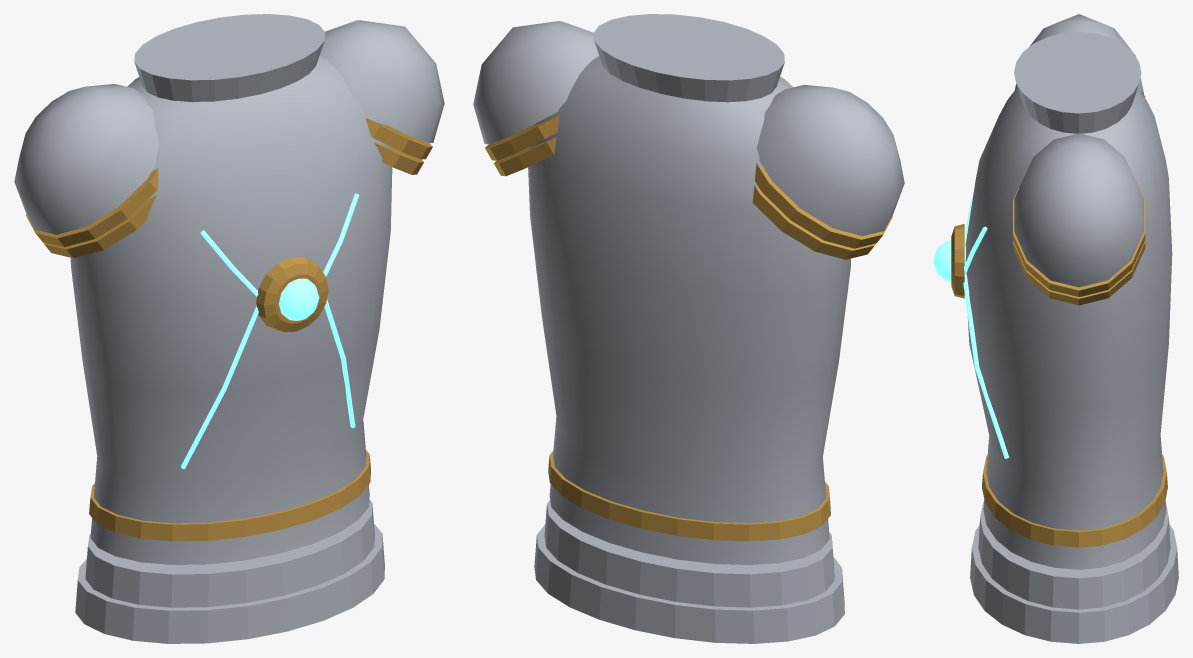
File: body_aegis_plate.glb
3 renders of one model, left to right at view 1: azimuth 30°, elevation 25°; view 2: azimuth 150°, elevation 25°; view 3: azimuth 270°, elevation 25°, orthographic. The views are drawn at different scales.
Parts seen in each view (by area): view 1: Body_aegis_plate_Steel, Body_aegis_plate_Brass, Body_aegis_plate_Glow_aetheric; view 2: Body_aegis_plate_Steel, Body_aegis_plate_Brass; view 3: Body_aegis_plate_Steel, Body_aegis_plate_Brass, Body_aegis_plate_Glow_aetheric.
Part boxes in pixels (box(x1,y1,x2,y2)): Body_aegis_plate_Steel: box(14, 14, 444, 643); Body_aegis_plate_Brass: box(26, 118, 432, 541); Body_aegis_plate_Glow_aetheric: box(180, 193, 359, 469); Body_aegis_plate_Steel: box(473, 14, 904, 643); Body_aegis_plate_Brass: box(485, 115, 892, 541); Body_aegis_plate_Steel: box(965, 14, 1178, 643); Body_aegis_plate_Brass: box(951, 95, 1167, 547); Body_aegis_plate_Glow_aetheric: box(933, 191, 1009, 458).
Bounding box in the file's own units: 0.5358 × 0.67 × 0.2955.
